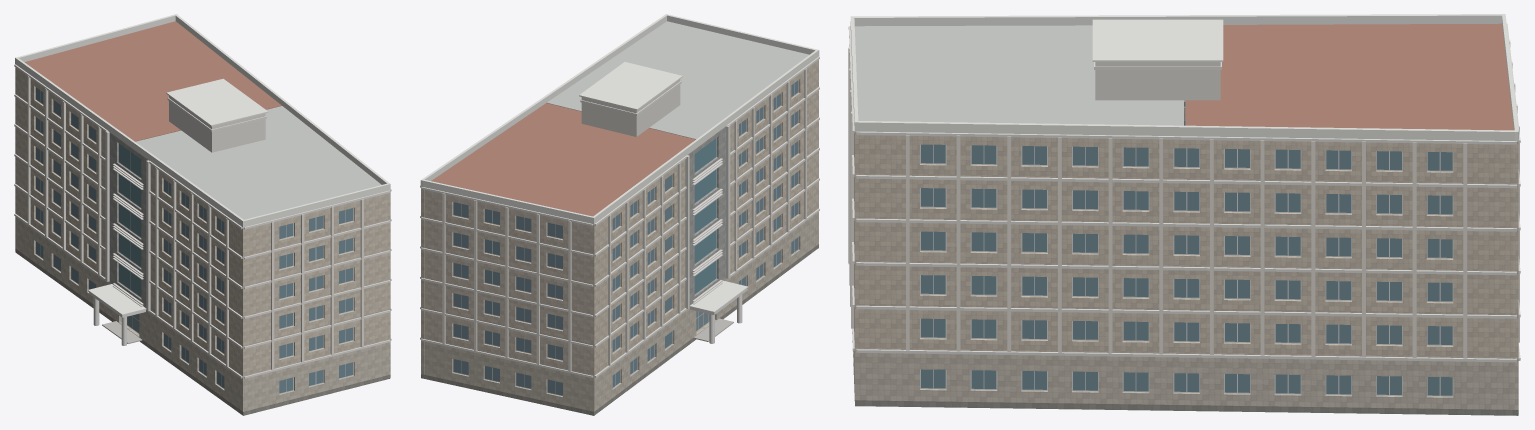
3 renders of one model, left to right at view 1: azimuth 30°, elevation 25°; view 2: azimuth 150°, elevation 25°; view 3: azimuth 270°, elevation 25°, orthographic. The views are drawn at different scales.
Parts seen in each view (by area): view 1: hotel__brick, hotel__roof, hotel__southroof, hotel__stone, hotel__cap, hotel__trim, hotel__glass, hotel__fin, hotel__corewall, hotel__frame, hotel__core, hotel__curtainglass (+3 smaller); view 2: hotel__brick, hotel__roof, hotel__southroof, hotel__stone, hotel__cap, hotel__trim, hotel__glass, hotel__fin, hotel__frame, hotel__corewall, hotel__core, hotel__curtainglass (+2 smaller); view 3: hotel__brick, hotel__glass, hotel__roof, hotel__stone, hotel__southroof, hotel__cap, hotel__trim, hotel__fin, hotel__frame, hotel__core, hotel__plinth, hotel__foundation.
Part boxes in pixels (x1,y1,x2,y2): hotel__brick: (15, 67, 390, 377); hotel__roof: (24, 21, 281, 141); hotel__southroof: (135, 106, 381, 219); hotel__stone: (15, 217, 390, 411); hotel__cap: (15, 14, 390, 315); hotel__trim: (14, 64, 391, 378); hotel__glass: (36, 87, 352, 393); hotel__fin: (27, 76, 363, 369); hotel__corewall: (109, 132, 148, 307); hotel__frame: (35, 87, 353, 393); hotel__core: (169, 96, 265, 152); hotel__curtainglass: (119, 143, 141, 296); hotel__brick: (421, 60, 818, 376); hotel__roof: (431, 103, 695, 216); hotel__southroof: (547, 21, 809, 139); hotel__stone: (421, 211, 818, 411); hotel__cap: (420, 14, 819, 312); hotel__trim: (420, 56, 819, 378); hotel__glass: (453, 80, 798, 395); hotel__fin: (442, 68, 806, 371); hotel__frame: (453, 80, 798, 396); hotel__corewall: (688, 126, 725, 304); hotel__core: (581, 79, 680, 136); hotel__curtainglass: (694, 138, 716, 294); hotel__brick: (854, 132, 1518, 359); hotel__glass: (921, 144, 1452, 395); hotel__roof: (1185, 23, 1513, 130); hotel__stone: (853, 349, 1518, 409); hotel__southroof: (854, 25, 1183, 125); hotel__cap: (850, 14, 1518, 141); hotel__trim: (848, 23, 1520, 362); hotel__fin: (848, 40, 1519, 358); hotel__frame: (920, 144, 1453, 396); hotel__core: (1095, 62, 1220, 101); hotel__plinth: (853, 357, 1517, 414); hotel__foundation: (855, 405, 1518, 415).
Size of the model in its own units: 23.97 by 26.22 by 50.36.
19 materials, 6 textured.
